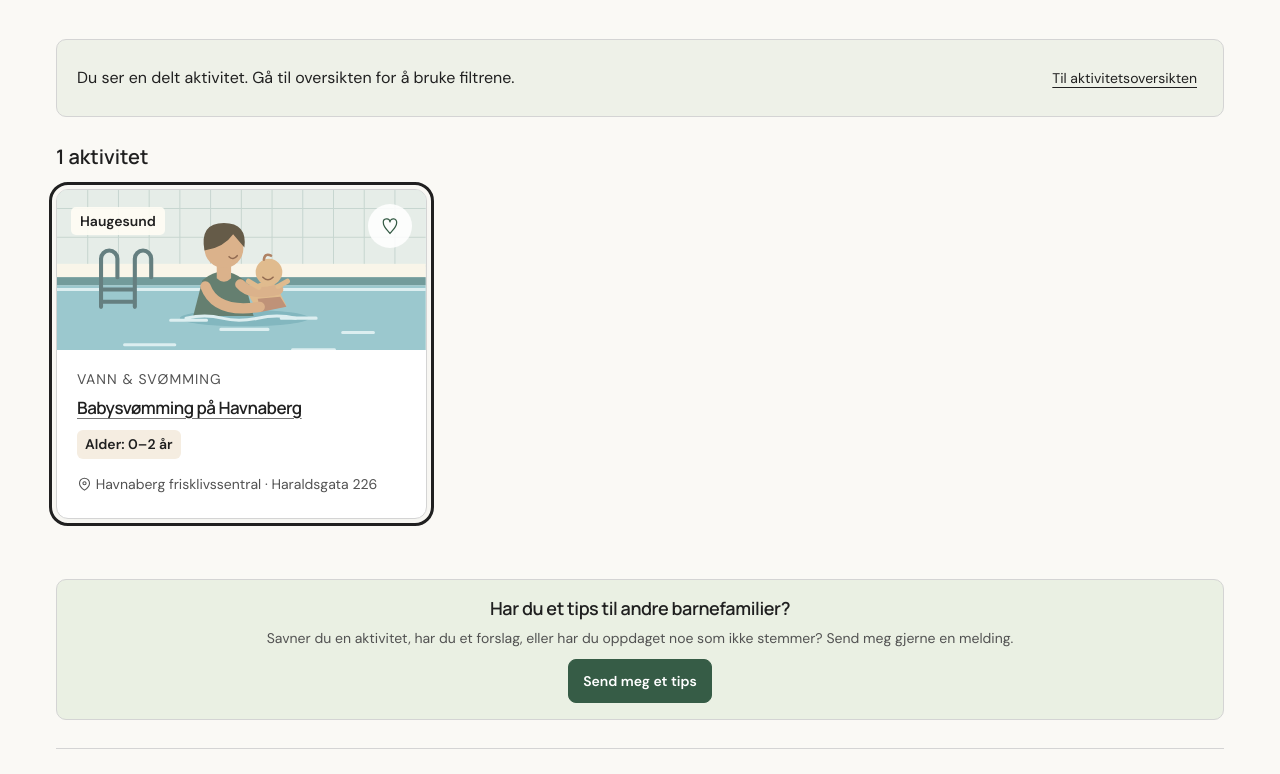
aktivitetsoversikten › åpner en delt aktivitet uavhengig av filtre og lar brukeren vise resten
(page scrolled)
Expected: the field labelled "Sted" is not shown
Expected: the heading "Babysvømming på Havnaberg" is shown, [77,396,302,419]
What coordinates should you click on to do the following:
click the button "Til aktivitetsoversikten"
I would click on:
 (1125, 78)
Its box is [1046,56,1203,100].
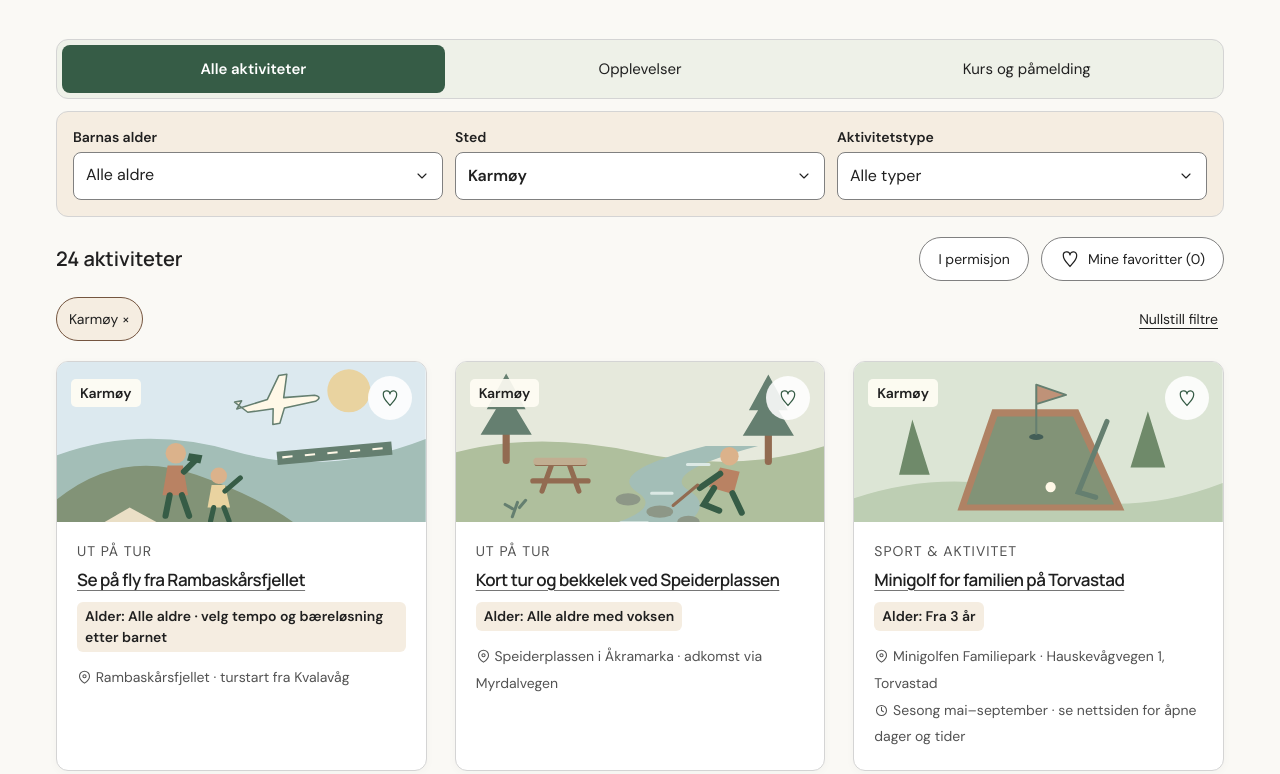
Expected: the text "Du ser en delt aktivitet" is gone
Expected: the dropdown labelled "Sted" shows "Karmøy", [455,152,825,200]
